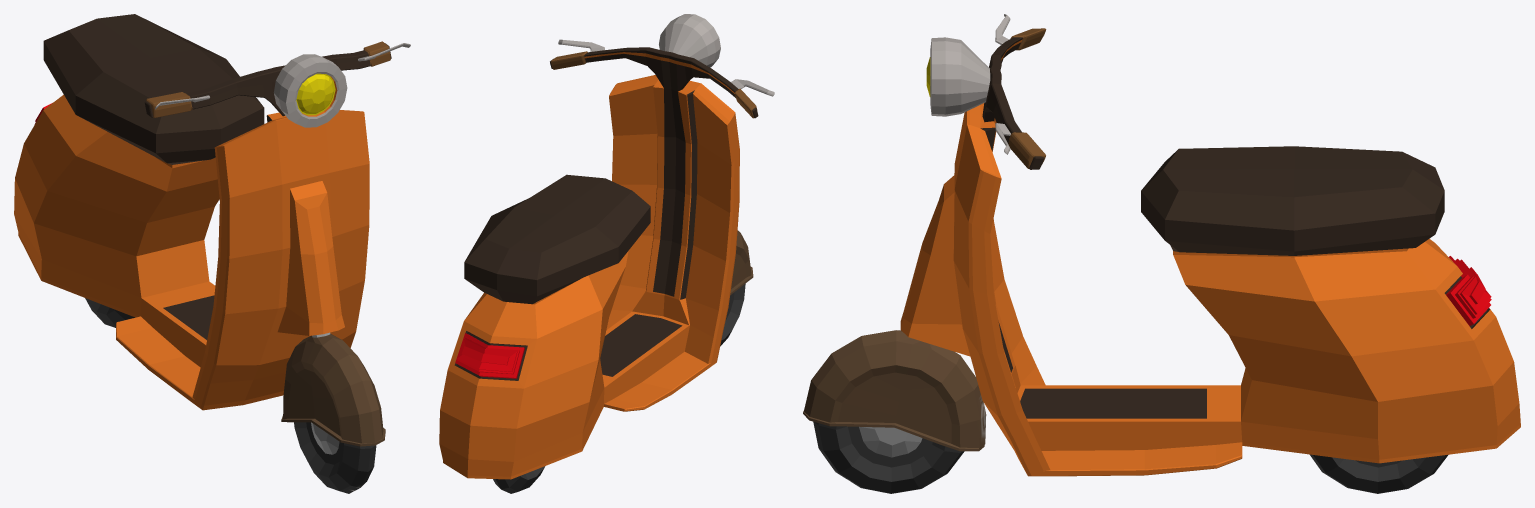
Rendered from ScooterVersion2.fbx.
3 renders of one model, left to right at view 1: azimuth 30°, elevation 25°; view 2: azimuth 150°, elevation 25°; view 3: azimuth 270°, elevation 25°, orthographic. The views are drawn at different scales.
Parts seen in each view (by area): view 1: Scooter, FrontTire, BackTire; view 2: Scooter, FrontTire, BackTire; view 3: Scooter, FrontTire, BackTire.
Boxes of the visible parts, x1,y1,x2,y2 form: Scooter: [14, 14, 410, 446]; FrontTire: [294, 422, 376, 493]; BackTire: [85, 298, 134, 327]; Scooter: [439, 14, 774, 479]; FrontTire: [720, 283, 745, 346]; BackTire: [493, 466, 545, 493]; Scooter: [803, 14, 1520, 476]; FrontTire: [813, 421, 964, 493]; BackTire: [1309, 454, 1448, 493].
Size of the model in its own units: 95.87 by 148 by 213.
